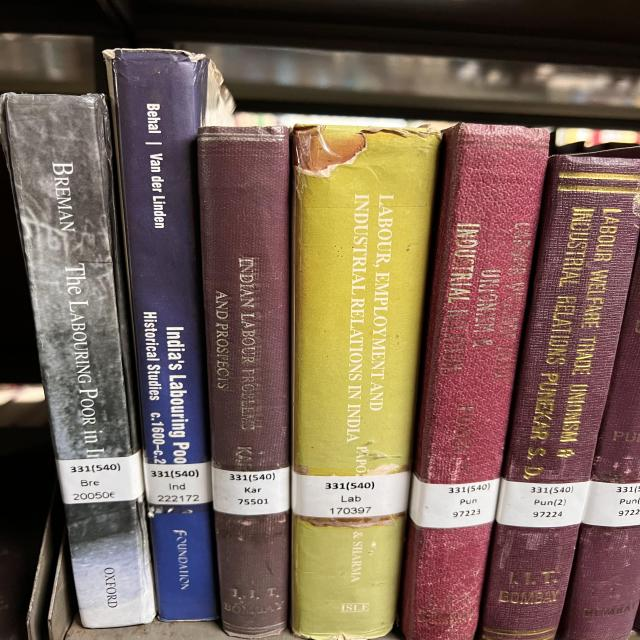Book: (2, 94, 155, 628), (480, 155, 640, 640), (402, 124, 550, 640), (292, 125, 440, 640), (105, 49, 233, 621), (198, 128, 290, 639), (558, 250, 640, 640)
Label: (292, 471, 410, 518), (410, 475, 500, 529), (57, 451, 143, 504), (497, 479, 590, 528), (212, 468, 290, 515), (143, 462, 212, 505), (582, 481, 640, 528)
